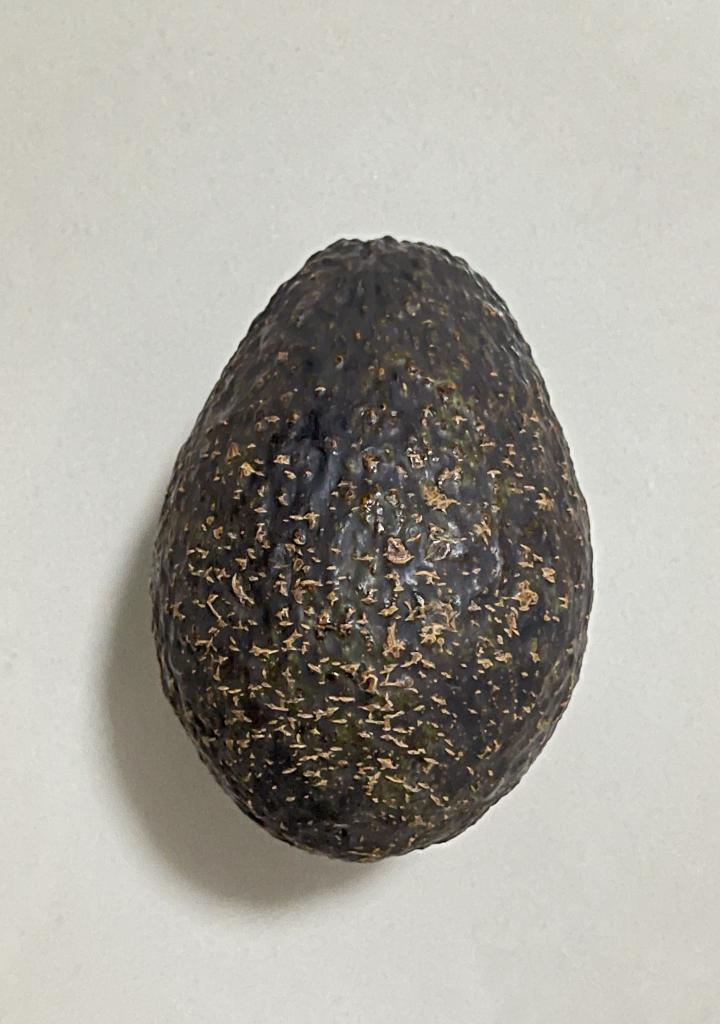Level2: (145, 226, 598, 868)
